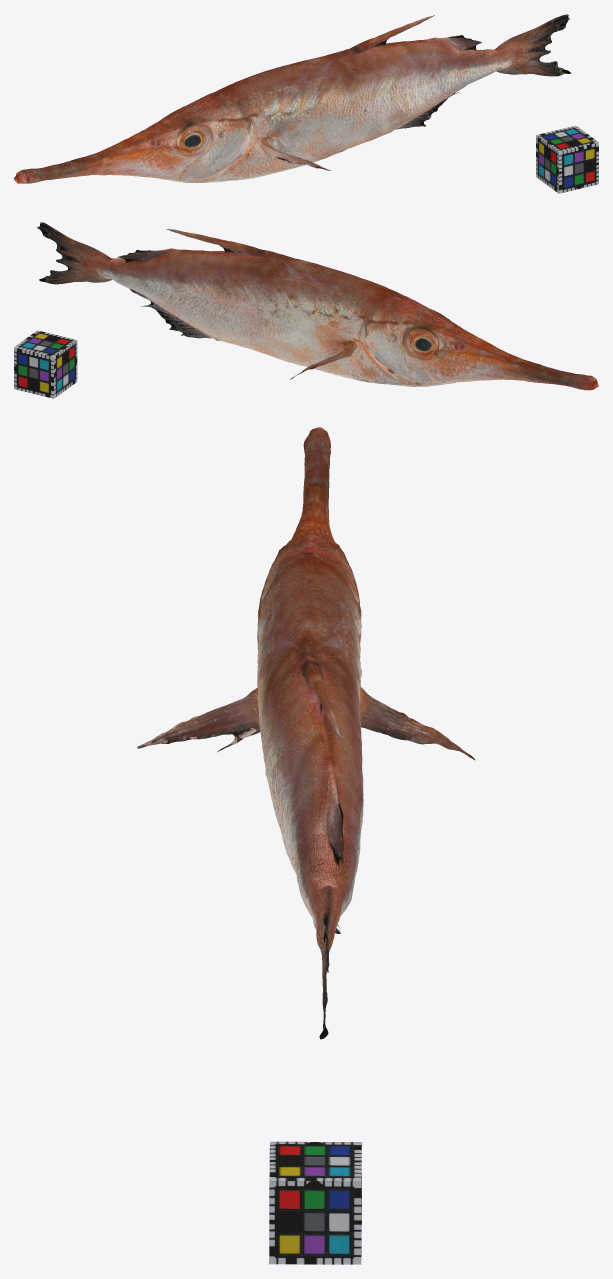
The model's file is sw_snipefish.glb.
3 renders of one model, top to bottom at view 1: azimuth 30°, elevation 25°; view 2: azimuth 150°, elevation 25°; view 3: azimuth 270°, elevation 25°, orthographic. The views are drawn at different scales.
Visible parts, largest first — view 1: Q11605-1all_5, Cube_2; view 2: Q11605-1all_5, Cube_2; view 3: Q11605-1all_5, Cube_2.
Boxes of the visible parts, x1=… form: Q11605-1all_5: x1=14, y1=14, x2=570, y2=183; Cube_2: x1=536, y1=125, x2=598, y2=193; Q11605-1all_5: x1=37, y1=222, x2=598, y2=390; Cube_2: x1=14, y1=330, x2=77, y2=398; Q11605-1all_5: x1=137, y1=427, x2=475, y2=1039; Cube_2: x1=269, y1=1141, x2=362, y2=1264.
Size of the model in its own units: 9.09 by 2.92 by 2.33.
2 materials, 2 textured.
